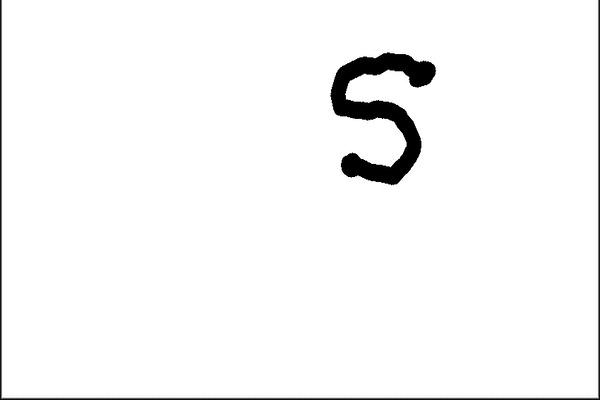S: (321, 45, 437, 187)
